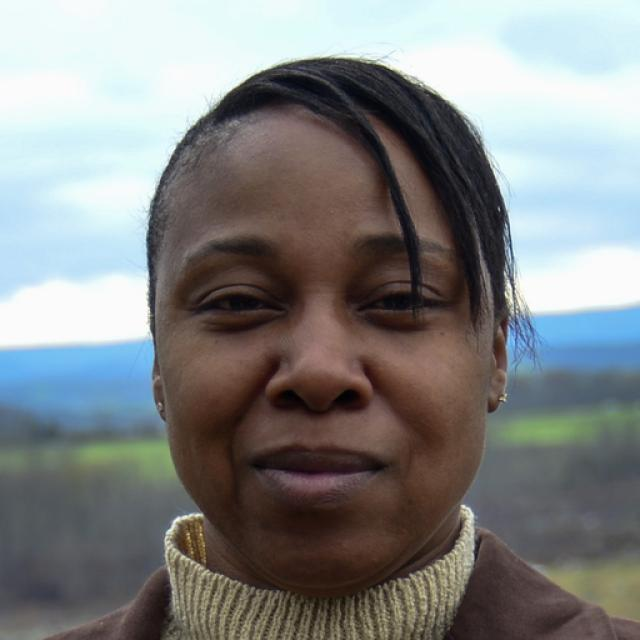content: (159, 115, 490, 580)
